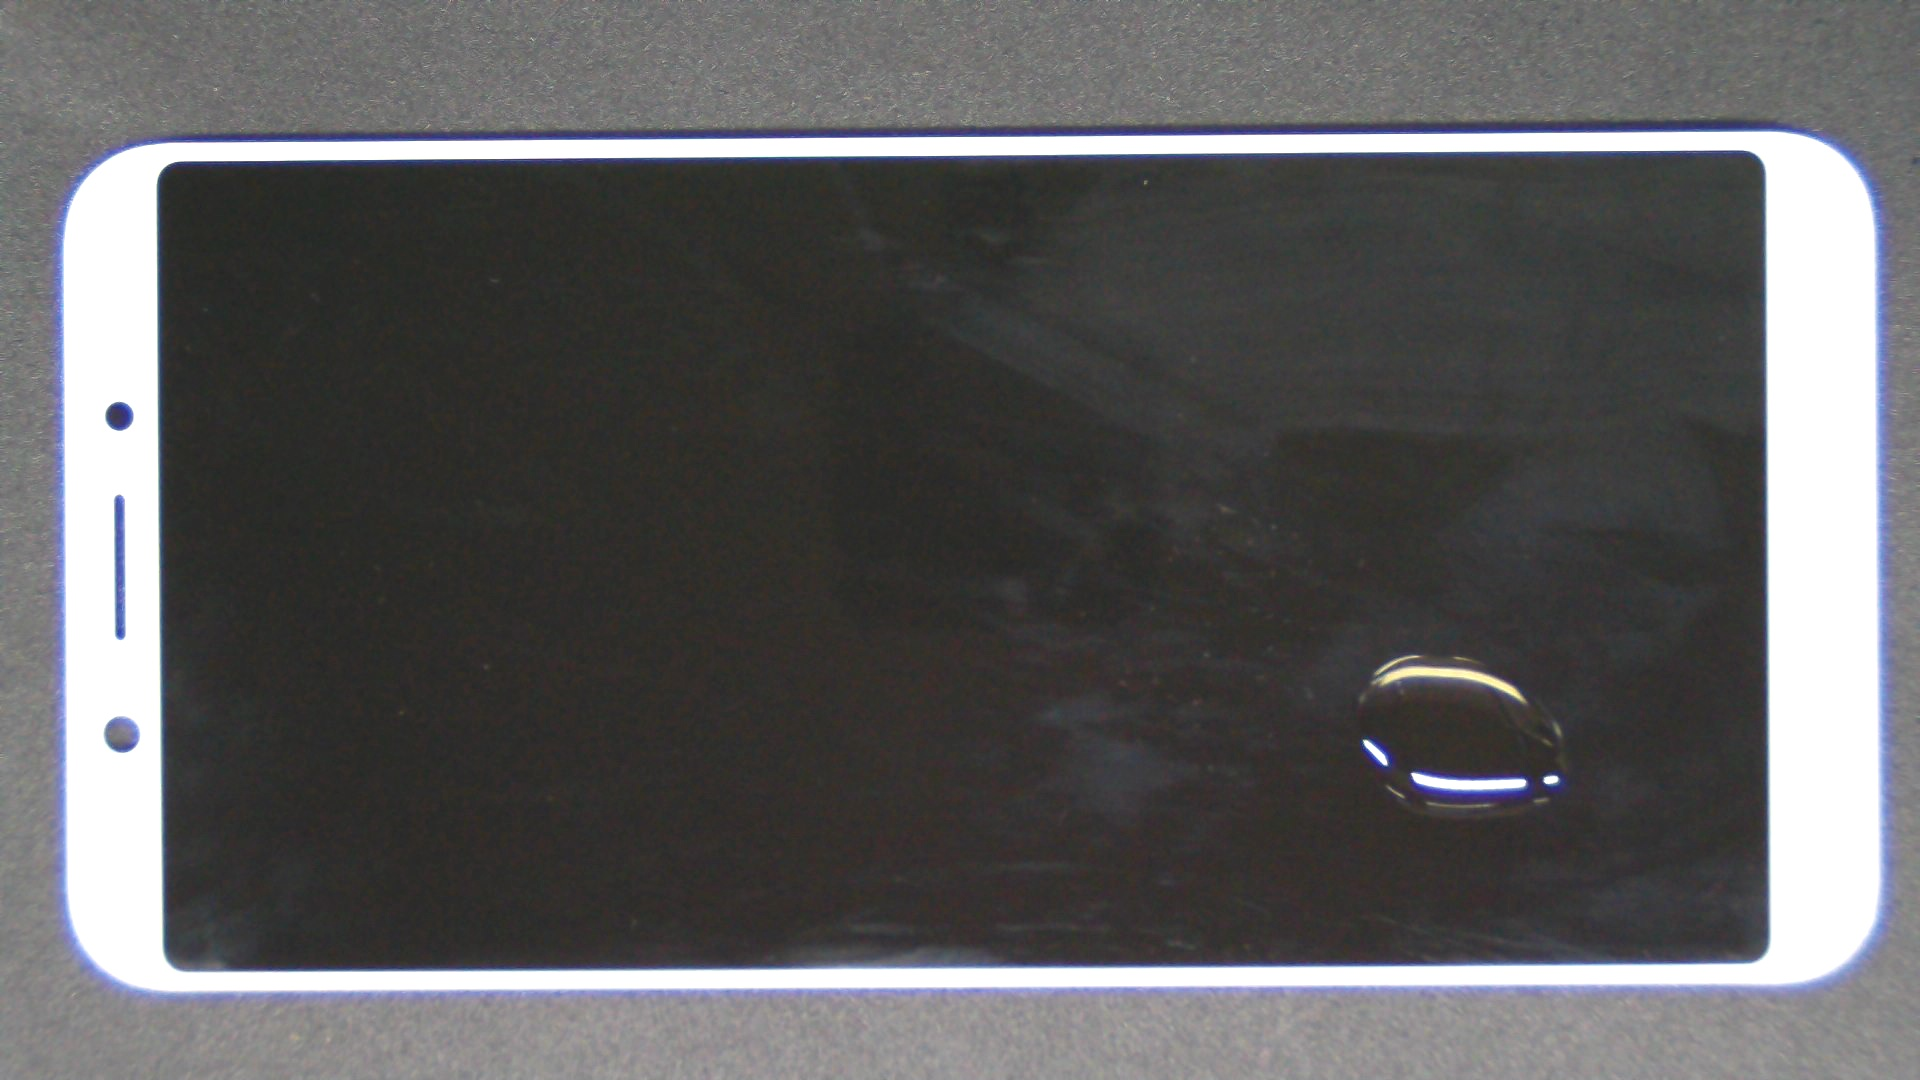oil: (705, 327, 1920, 982)
